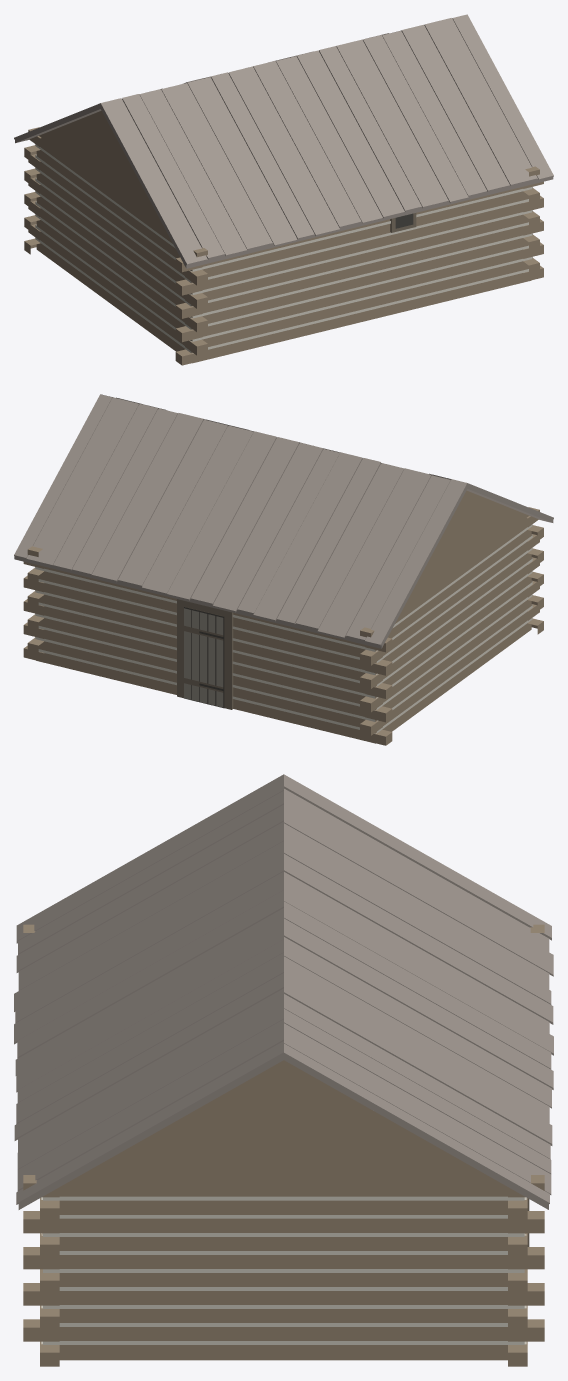
Rendered from fort_dearborn_out_building_a__out_building_a_1830.glb.
3 renders of one model, top to bottom at view 1: azimuth 30°, elevation 25°; view 2: azimuth 150°, elevation 25°; view 3: azimuth 270°, elevation 25°, orthographic. The views are drawn at different scales.
Visible parts, largest first — view 1: fort_dearborn_out_building_a__out_building_a_1830; view 2: fort_dearborn_out_building_a__out_building_a_1830; view 3: fort_dearborn_out_building_a__out_building_a_1830.
Part boxes in pixels (bbox=[...]): fort_dearborn_out_building_a__out_building_a_1830: bbox=[14, 14, 553, 365]; fort_dearborn_out_building_a__out_building_a_1830: bbox=[14, 394, 553, 745]; fort_dearborn_out_building_a__out_building_a_1830: bbox=[14, 774, 553, 1366].
Bounding box in the file's own units: 7.89 × 4.25 × 6.5.
